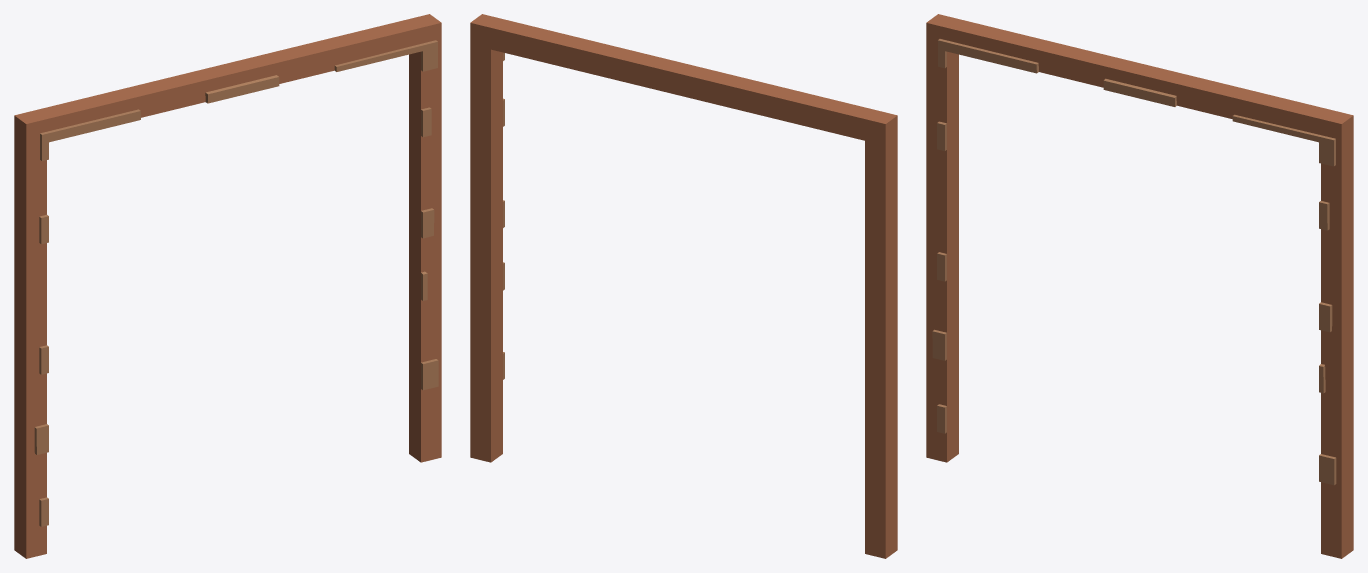
The model's file is BrickV3GarageFrame.fbx.
The picture shows the model from 3 angles, left to right: view 1: azimuth 30°, elevation 25°; view 2: azimuth 150°, elevation 25°; view 3: azimuth 330°, elevation 25°; orthographic projection.
Parts seen in each view (by area): view 1: BrickV3GarageFrame; view 2: BrickV3GarageFrame; view 3: BrickV3GarageFrame.
Boxes of the visible parts, x1,y1,x2,y2 form: BrickV3GarageFrame: (14,14,441,558); BrickV3GarageFrame: (470,14,897,558); BrickV3GarageFrame: (926,14,1353,558).
Bounding box in the file's own units: 200 × 200 × 11.75.
